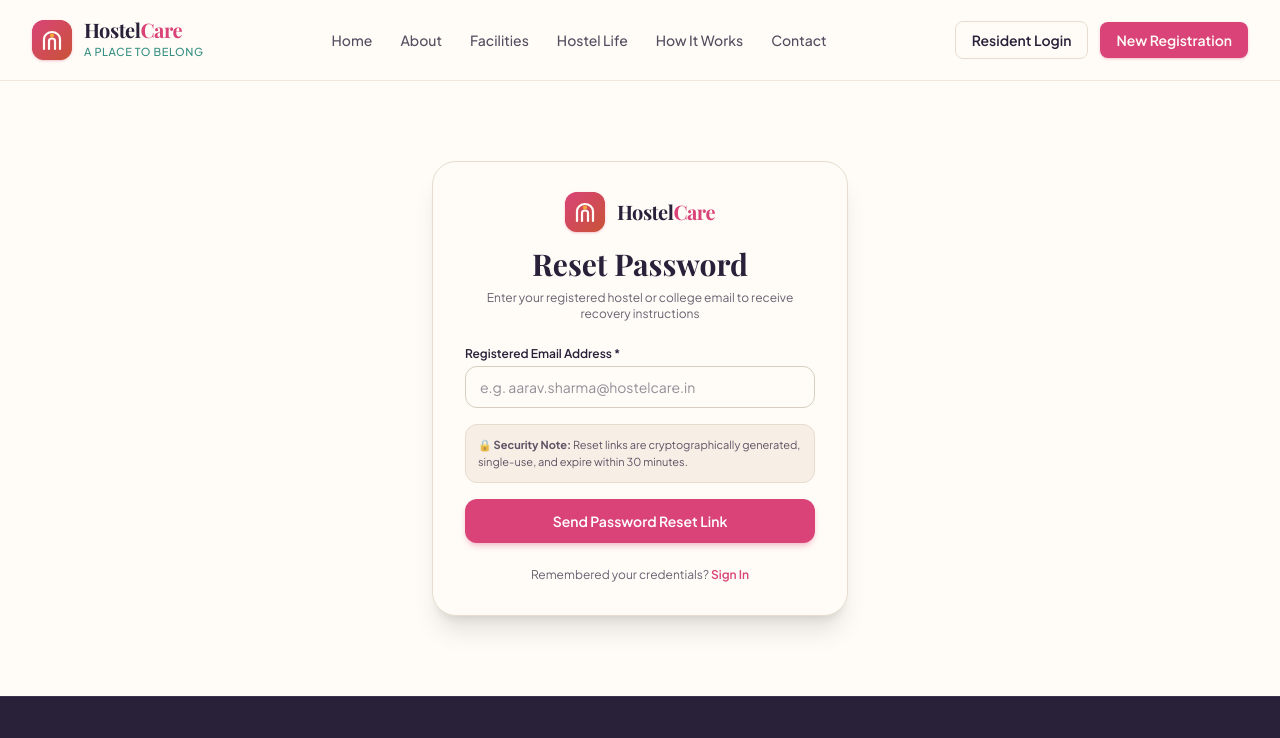
Test: HostelCare Multi-Page Application & Phase 3C Authentication › renders forgot password page and shows neutral confirmation on submit
Expected: the heading "Reset Password" is shown, [532,244,748,284]
Type "student@hostelcare.in" into the field with placeholder "e.g. aarav.sharma@hostelcare.in" at (640, 387), box [465,366,815,408]
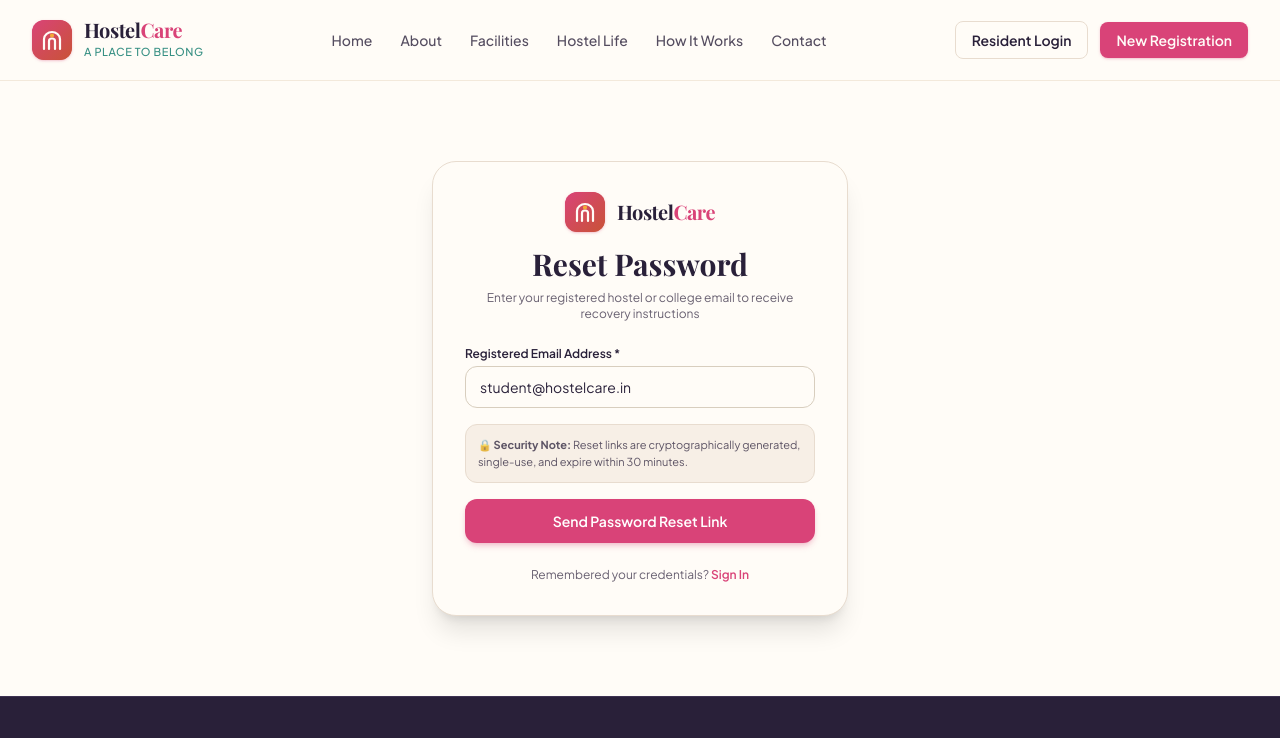
Click the button "Send Password Reset Link" at (640, 521), box [465,499,815,543]
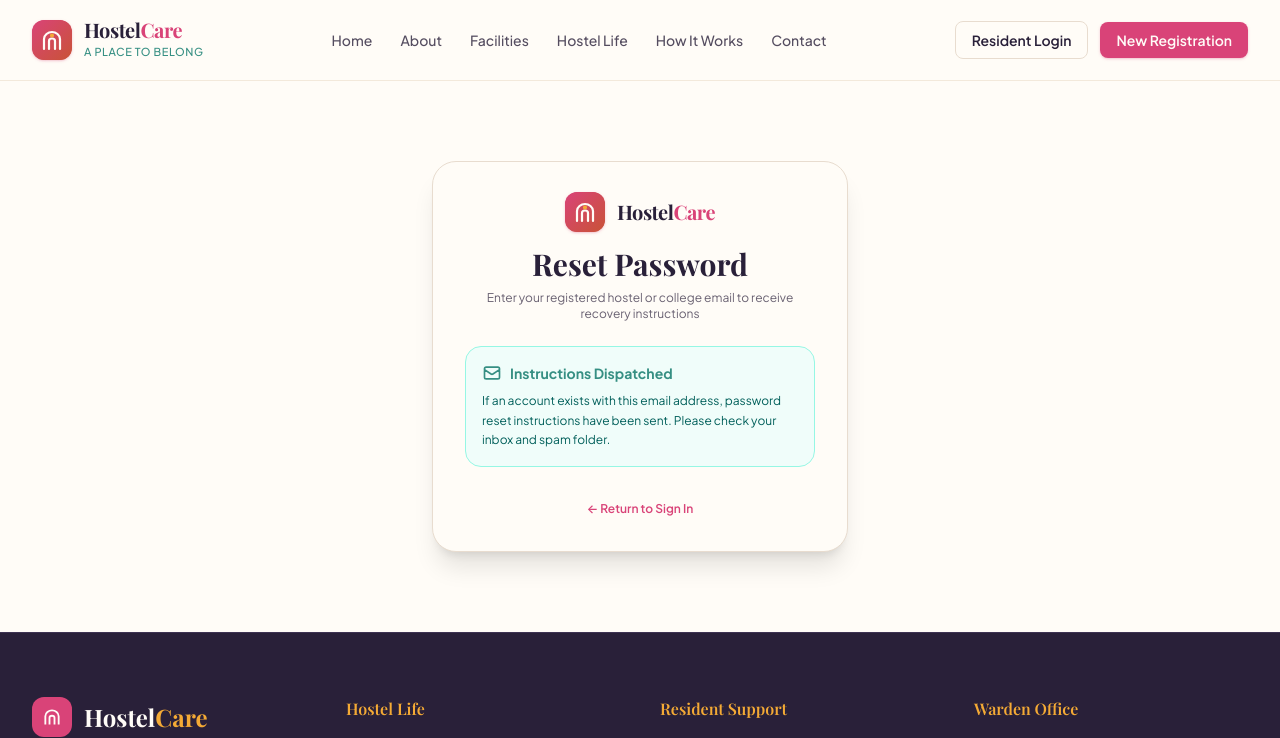
Expected: the text "Instructions Dispatched" is shown, [510,363,673,383]
